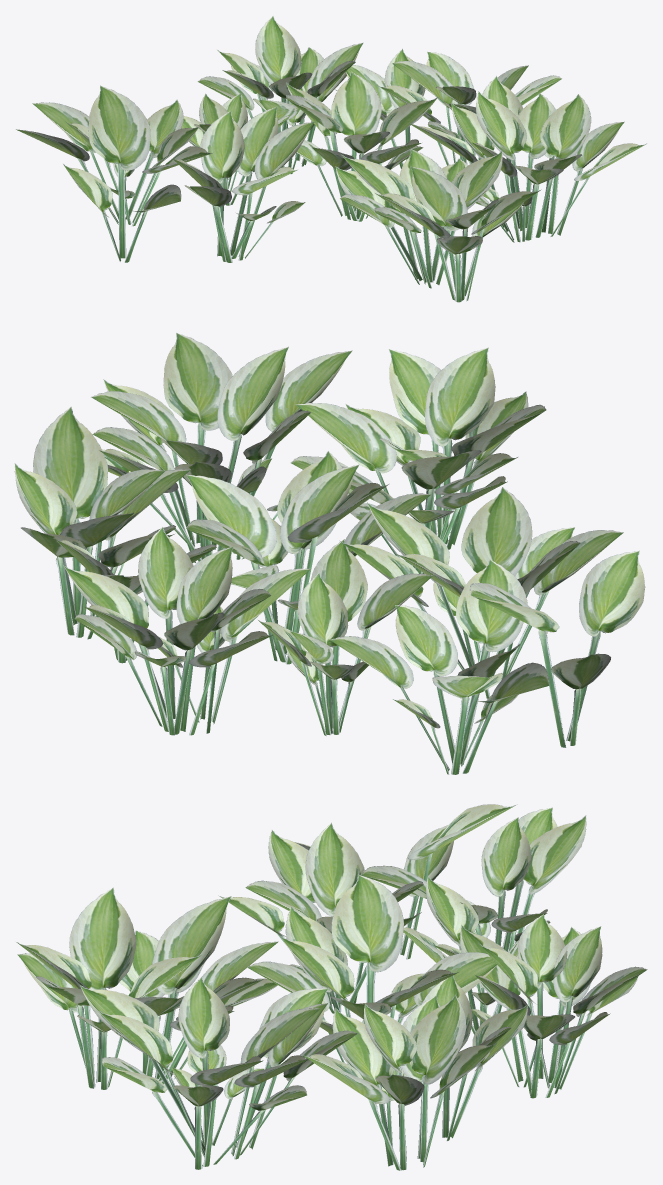
The model's file is cluster_plant_small_wg_02.fbx.
The picture shows the model from 3 angles, top to bottom: view 1: azimuth 30°, elevation 25°; view 2: azimuth 150°, elevation 25°; view 3: azimuth 270°, elevation 25°; orthographic projection. The views are drawn at different scales.
Parts seen in each view (by area): view 1: cluster_plant_small_wg_02; view 2: cluster_plant_small_wg_02; view 3: cluster_plant_small_wg_02.
Boxes of the visible parts, bbox=[...] form: cluster_plant_small_wg_02: bbox=[16, 16, 646, 302]; cluster_plant_small_wg_02: bbox=[14, 332, 645, 774]; cluster_plant_small_wg_02: bbox=[16, 804, 647, 1170].
Size of the model in its own units: 204 by 58.19 by 195.
